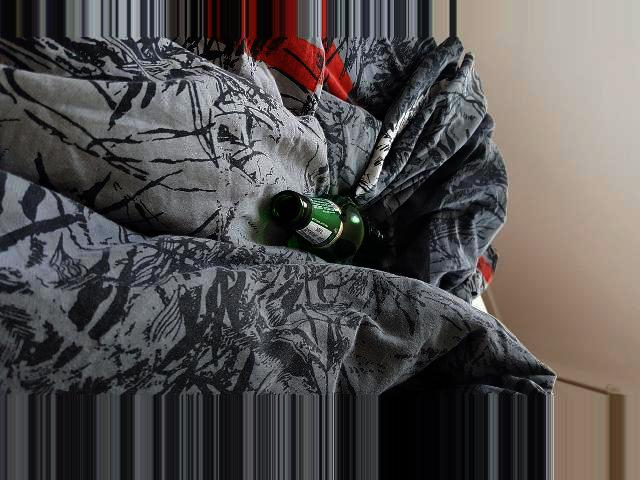beer: (269, 193, 386, 262)
